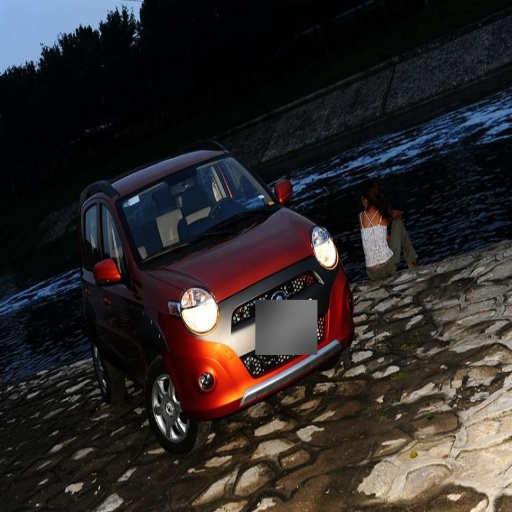front_right_door: (86, 197, 121, 330)
front_right_light: (179, 292, 218, 333)
trunk: (195, 231, 294, 317)
